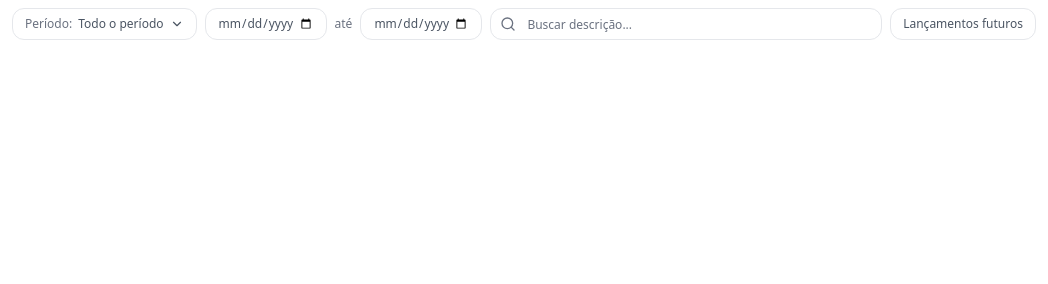
Test: filtros lembrados na tela de transações › os atalhos de período aparecem em três grupos: Passado, Presente e Futuro
Click the button "Período: Todo o período": [104, 24] box [12, 8, 196, 40]
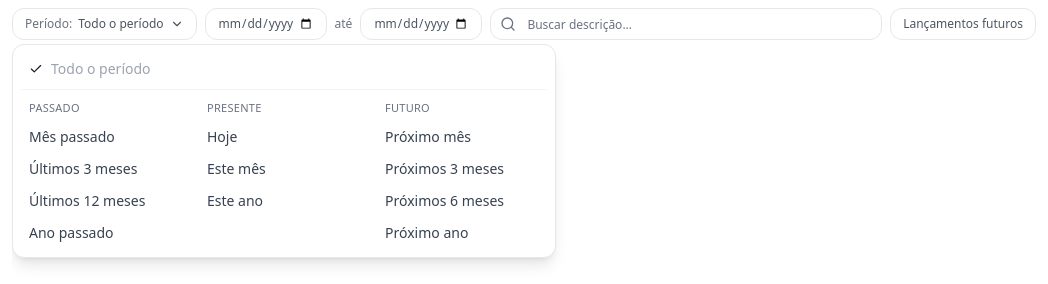
Result: the button "Mês passado" is shown at [21, 120, 191, 152]
Result: the button "Últimos 3 meses" is shown at [21, 152, 191, 184]
Result: the button "Últimos 12 meses" is shown at [21, 184, 191, 216]
